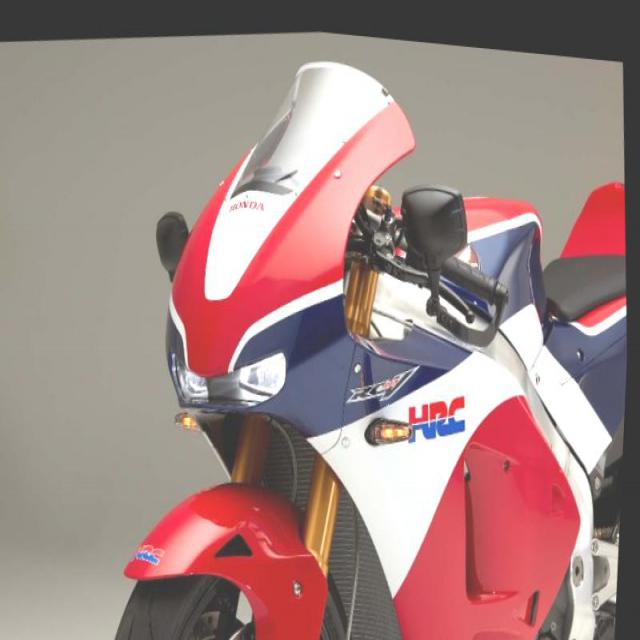HRC RCV 213: (74, 7, 640, 639)
